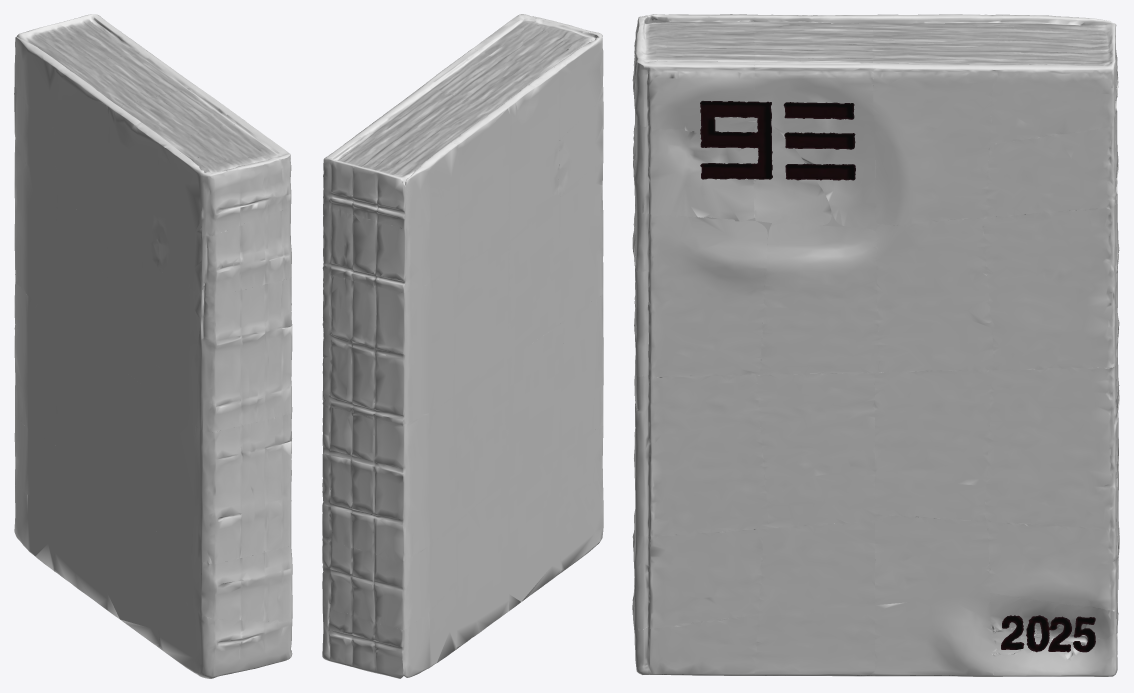
The model's file is 93book-opt-v10.glb.
The picture shows the model from 3 angles, left to right: view 1: azimuth 30°, elevation 25°; view 2: azimuth 150°, elevation 25°; view 3: azimuth 270°, elevation 25°; orthographic projection. The views are drawn at different scales.
Visible parts, largest first — view 1: tripo_node_ce152c4d-5df9-474d-859f-dbfb4d22c604.001; view 2: tripo_node_ce152c4d-5df9-474d-859f-dbfb4d22c604.001; view 3: tripo_node_ce152c4d-5df9-474d-859f-dbfb4d22c604.001.
Boxes of the visible parts, bbox=[...] form: tripo_node_ce152c4d-5df9-474d-859f-dbfb4d22c604.001: bbox=[14, 14, 292, 678]; tripo_node_ce152c4d-5df9-474d-859f-dbfb4d22c604.001: bbox=[322, 14, 603, 678]; tripo_node_ce152c4d-5df9-474d-859f-dbfb4d22c604.001: bbox=[632, 14, 1119, 676].
Size of the model in its own units: 0.1902 by 1 by 0.7163.
Materials: 2 (2 with a texture image).
